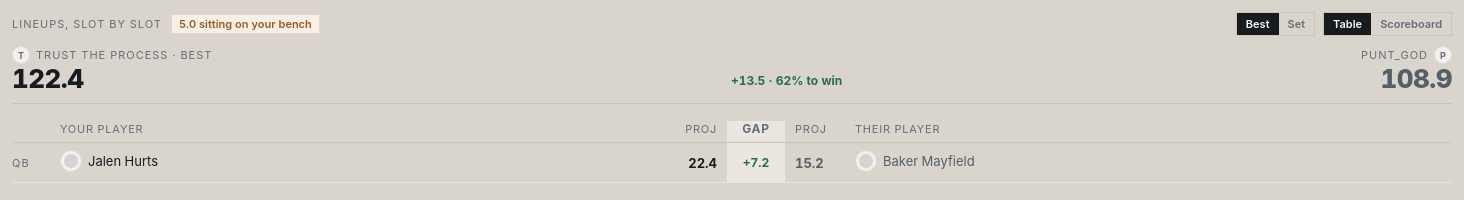
Scenario: LineupCompare › switches between the table and scoreboard views
Expected: the text "Your player" is shown, [60,122,143,136]
Click the button "Scoreboard": point(1411, 24) [1371,13,1451,35]
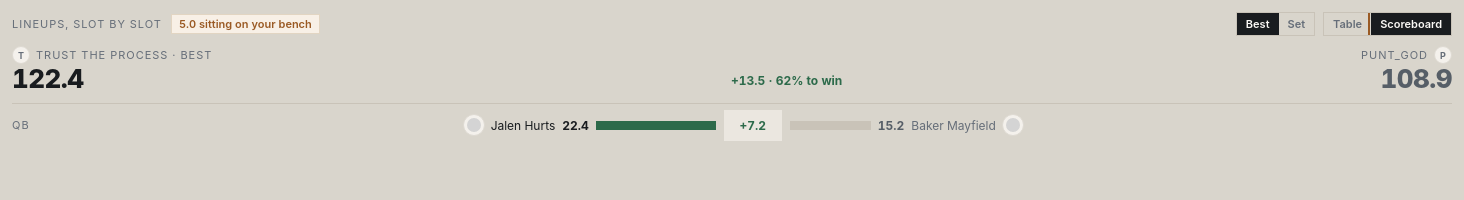
Expected: the text "Jalen Hurts" is shown, [463,114,555,136]
Expected: the text "Your player" is gone
